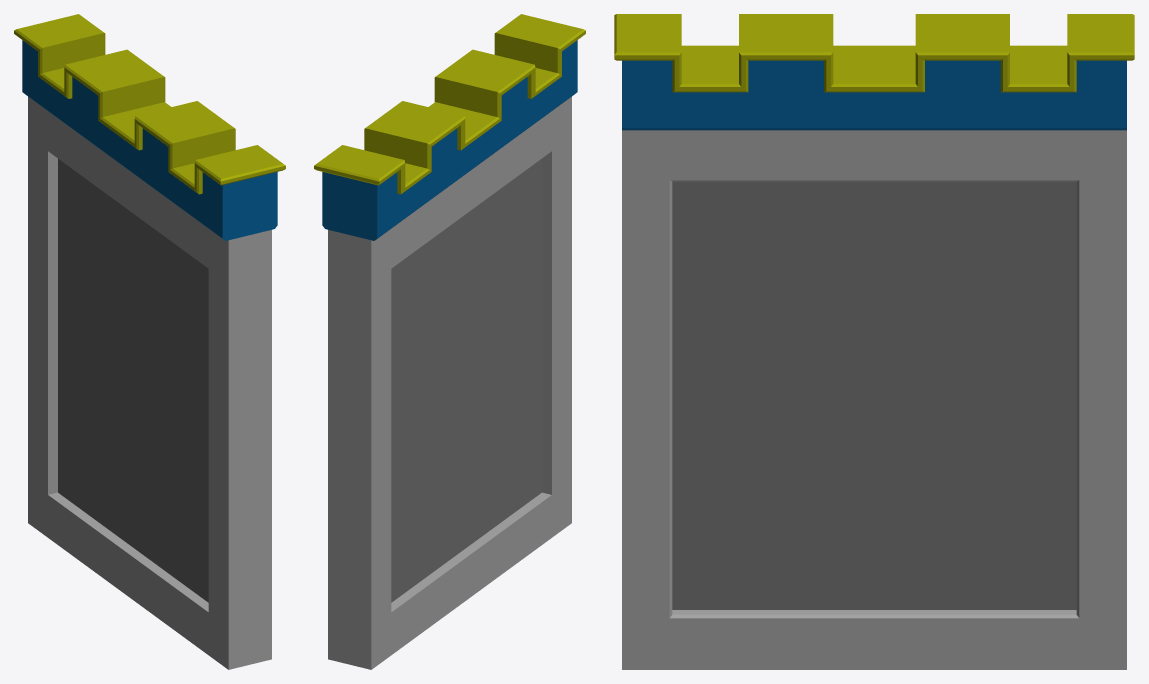
The model's file is Castle_Wall.fbx.
3 views of the same model, side by side, from view 1: azimuth 30°, elevation 25°; view 2: azimuth 150°, elevation 25°; view 3: azimuth 270°, elevation 25° (orthographic). The views are drawn at different scales.
Parts seen in each view (by area): view 1: pCube1; view 2: pCube1; view 3: pCube1.
Part boxes in pixels (x1,y1,x2,y2): pCube1: (14,14,285,669); pCube1: (314,14,585,669); pCube1: (614,14,1134,669).
Bounding box in the file's own units: 38.06 × 275 × 208.
